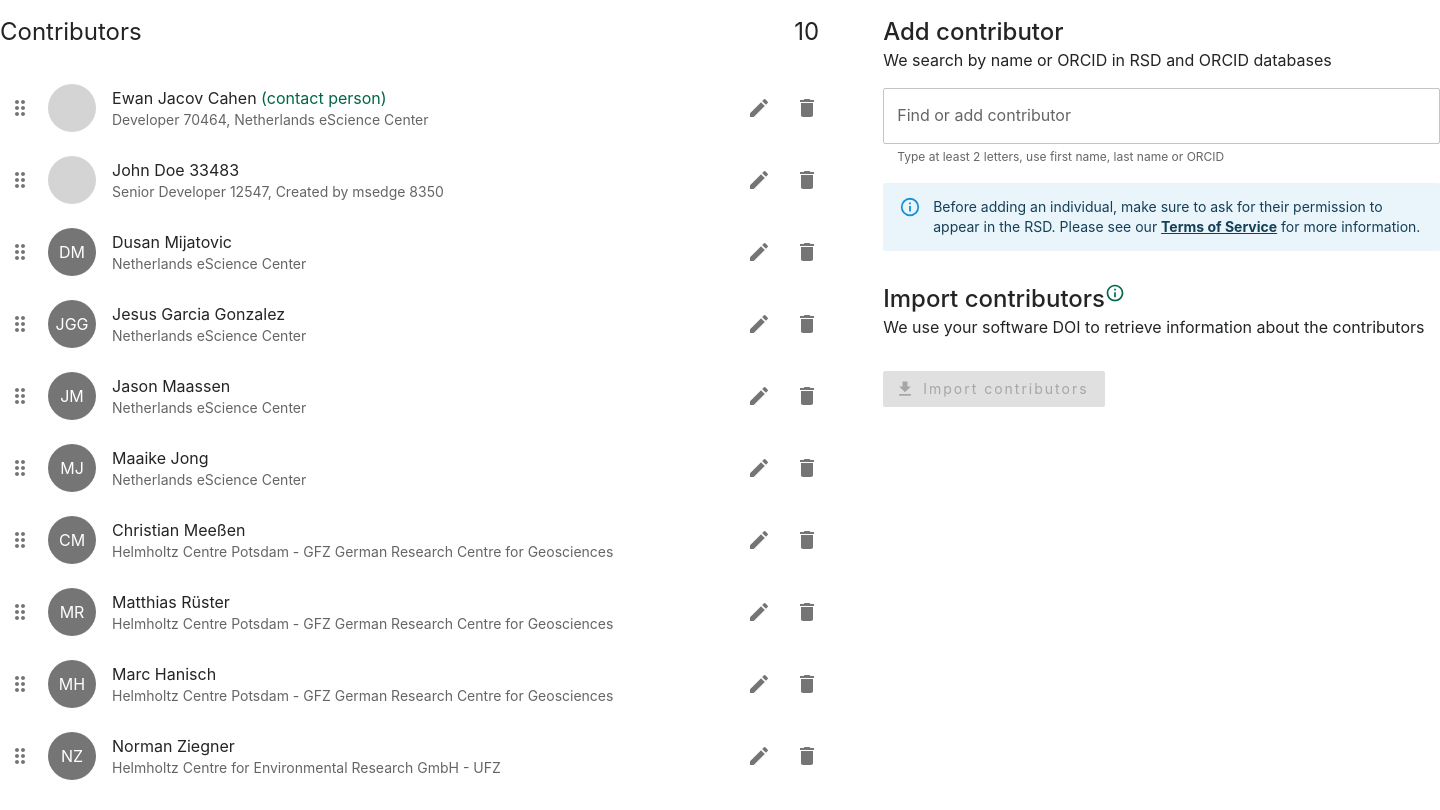
Test: frontend/components/software/edit/contributors/index.tsx › can remove contributor
Click the button named "delete" in the row of "Ewan Jacov Cahen": click(807, 108) [787,88,827,128]
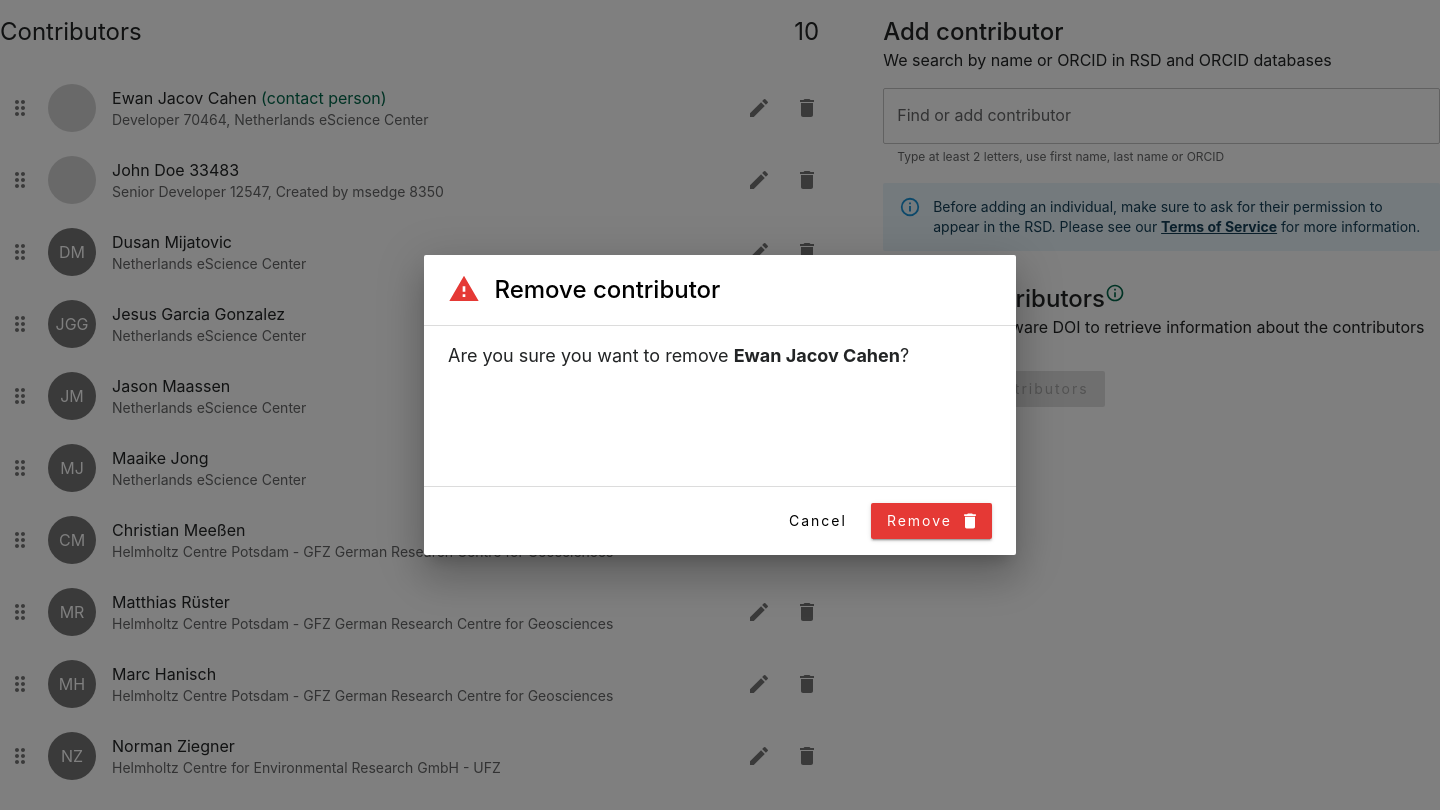
Click the button "Remove": click(931, 521) [871,503,992,540]
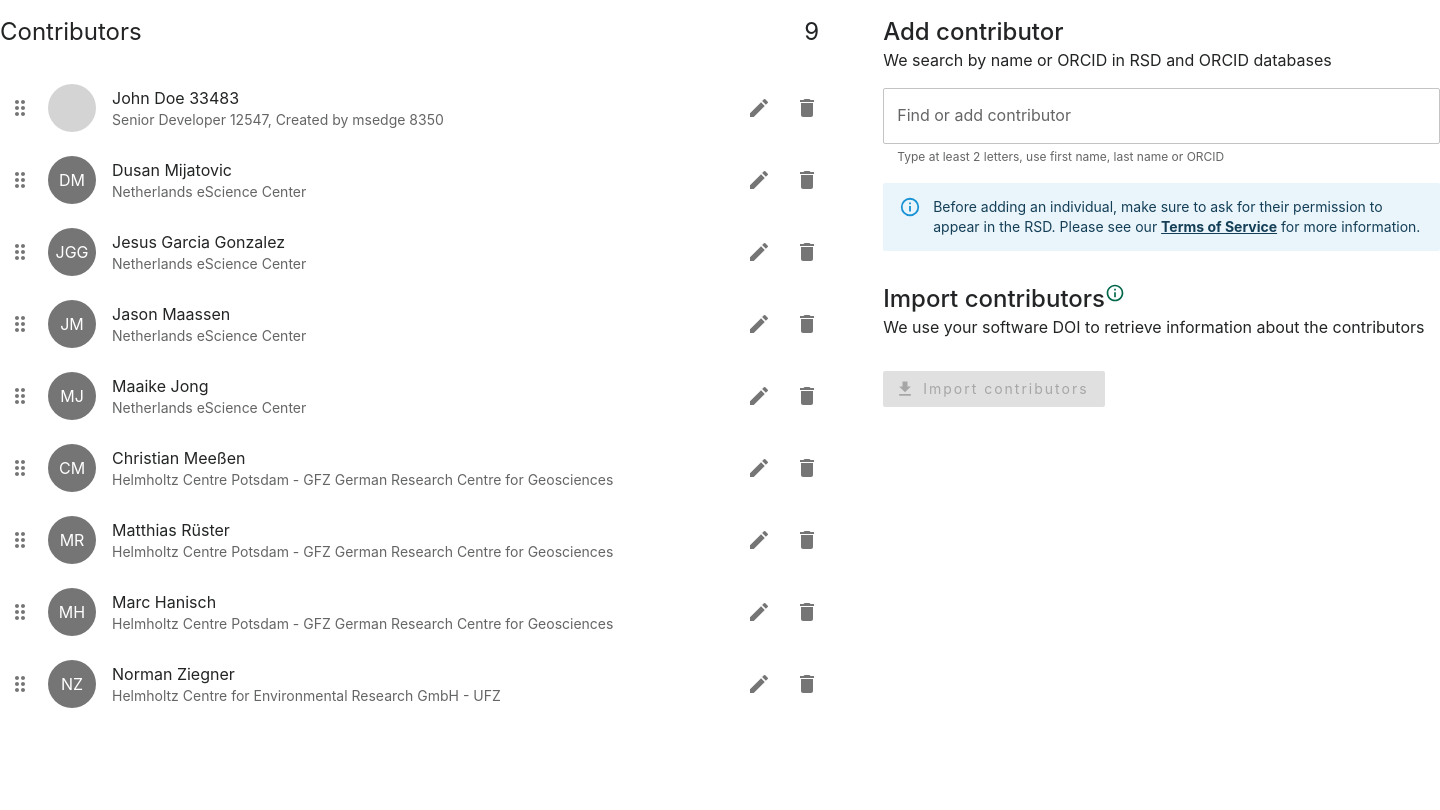
Expected: the number of list items with test id "contributor-item" is 9
